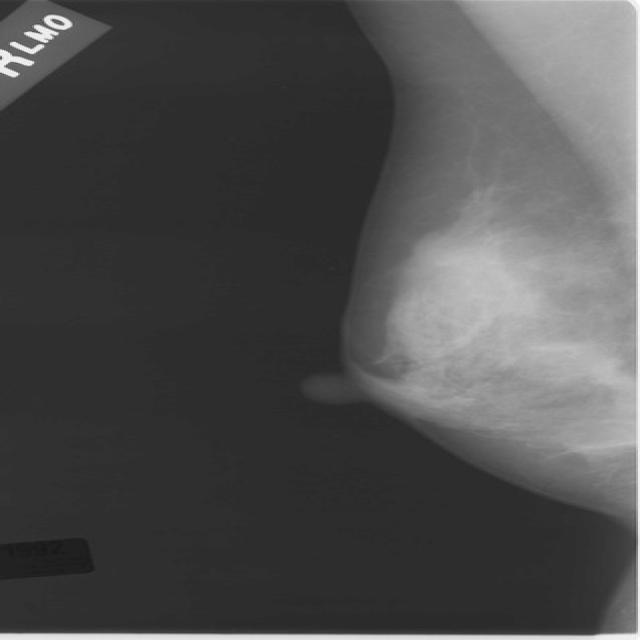tumour: (555, 343, 632, 391)
